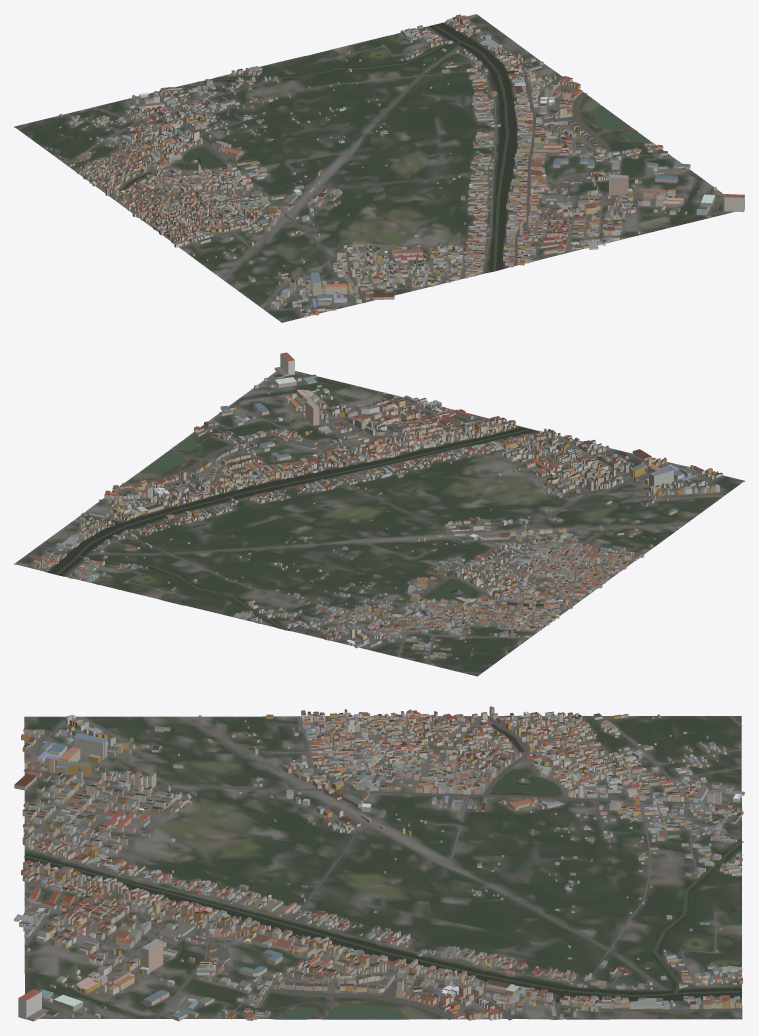
3 renders of one model, top to bottom at view 1: azimuth 30°, elevation 25°; view 2: azimuth 150°, elevation 25°; view 3: azimuth 270°, elevation 25°, orthographic. The views are drawn at different scales.
Parts seen in each view (by area): view 1: ground, buildings, roads, water; view 2: ground, buildings, roads, water; view 3: ground, buildings, roads, water.
Part boxes in pixels (x1,y1,x2,y2): ground: (14,14,734,322); buildings: (45,14,744,317); roads: (18,26,730,317); water: (120,22,648,271); ground: (14,371,744,676); buildings: (30,352,722,665); roads: (28,371,727,673); water: (48,427,547,630); ground: (24,716,742,1019); buildings: (14,706,744,1021); roads: (23,715,742,1020); water: (24,724,743,1019).
Size of the model in its own units: 1420 by 55.81 by 1429.
